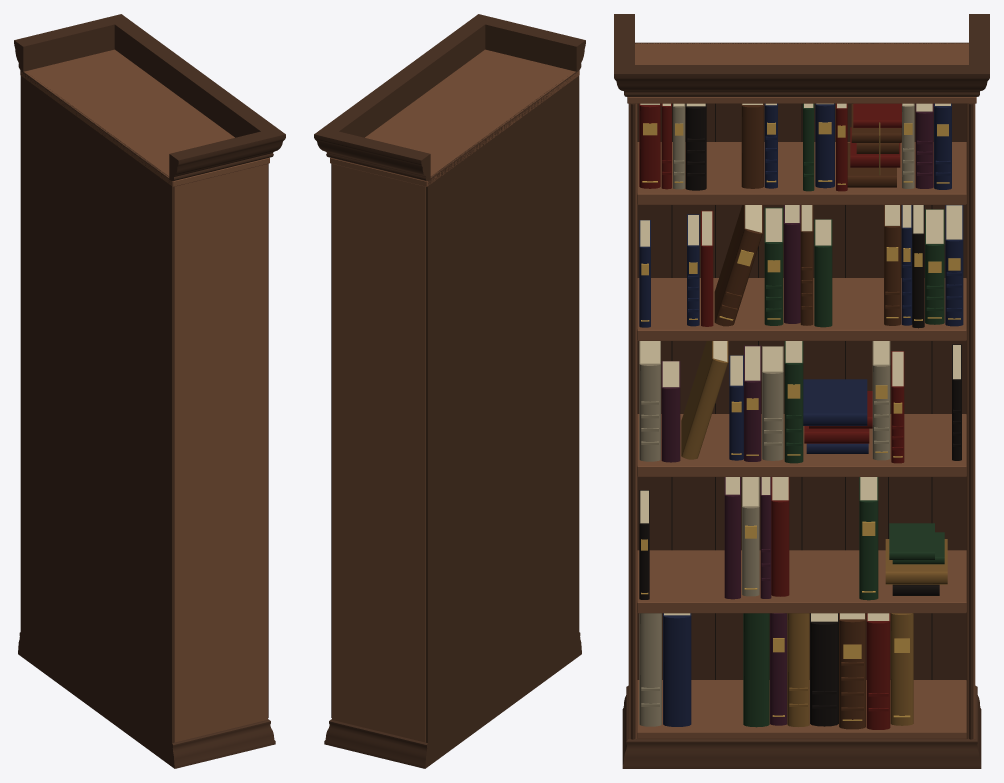
The model's file is bookcase@2.glb.
3 views of the same model, side by side, from view 1: azimuth 30°, elevation 25°; view 2: azimuth 150°, elevation 25°; view 3: azimuth 270°, elevation 25° (orthographic). The views are drawn at different scales.
Visible parts, largest first — view 1: rueckwand, korpus, profile; view 2: rueckwand, korpus, profile; view 3: korpus, rueckwand, profile, buecher3, buecher2, buecher0, buecher1, buchschnitt, buecher6, buecher7, buecher5, buecher4 (+2 smaller).
Part boxes in pixels (x1,y1,x2,y2): rueckwand: (20, 70, 174, 763); korpus: (20, 49, 269, 742); profile: (14, 14, 285, 768); rueckwand: (425, 70, 579, 763); korpus: (330, 49, 579, 742); profile: (314, 14, 585, 768); korpus: (627, 43, 976, 739); rueckwand: (635, 42, 968, 679); profile: (614, 14, 989, 768); buecher3: (639, 103, 963, 726); buecher2: (743, 103, 944, 727); buecher0: (639, 103, 904, 729); buecher1: (714, 103, 901, 729); buchschnitt: (640, 103, 962, 621); buecher6: (639, 103, 914, 726); buecher7: (661, 103, 933, 725); buecher5: (681, 341, 947, 726); buecher4: (639, 103, 961, 726).
Bounding box in the file's own units: 0.368 × 2 × 0.976.
